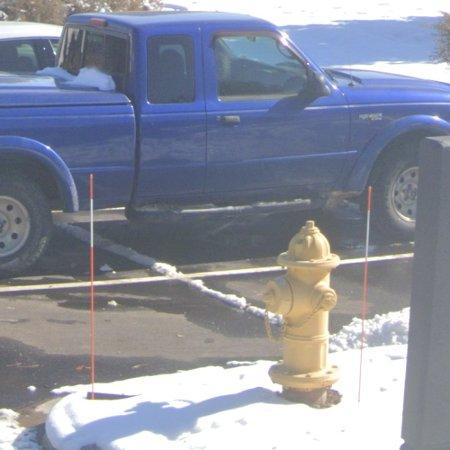a fire hydrant: (264, 221, 341, 392)
